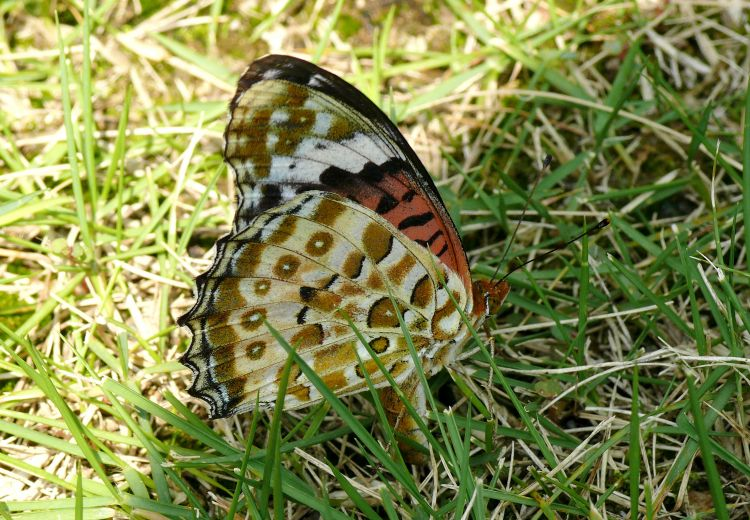Argyreus hyperbius: (170, 44, 549, 464)
butterfly: (172, 46, 551, 466)
